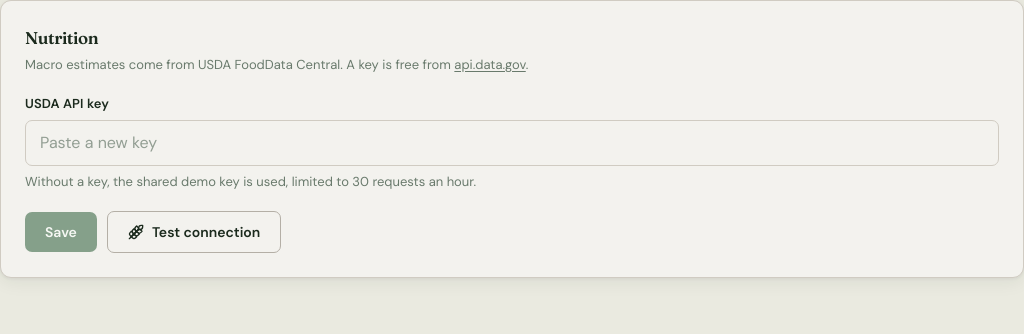
Test case: NutritionSettingsPanel › saves a new key and shows its mask
The width and height of the screenshot is (1024, 334).
Type "new-key-wxyz" into the password field named "USDA API key" at [512, 142], box [25,120,999,166]
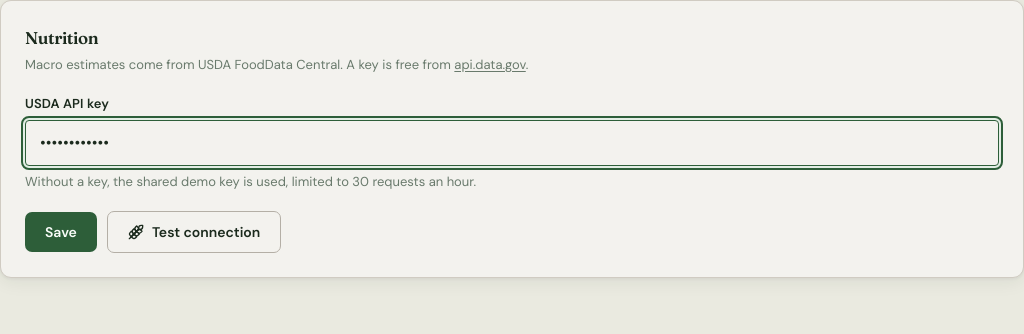
Click the button "Save" at [61, 232], box [25,212,97,252]
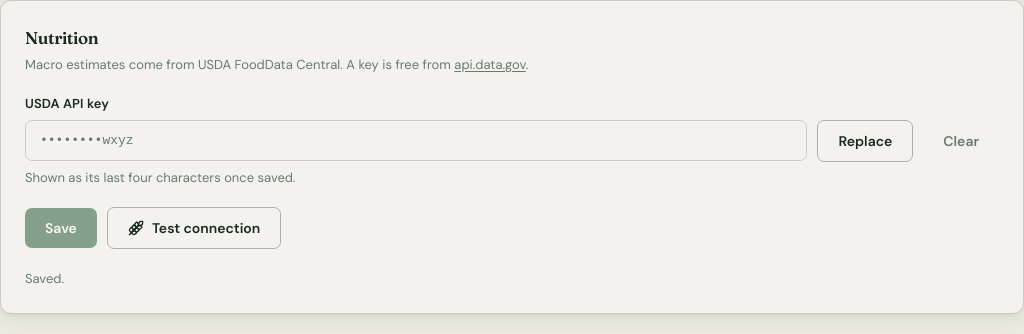
Expected: the text "••••••••wxyz" is shown, [25,120,808,161]
